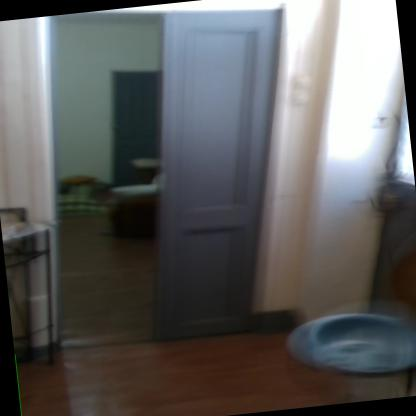open: (23, 0, 331, 367)
